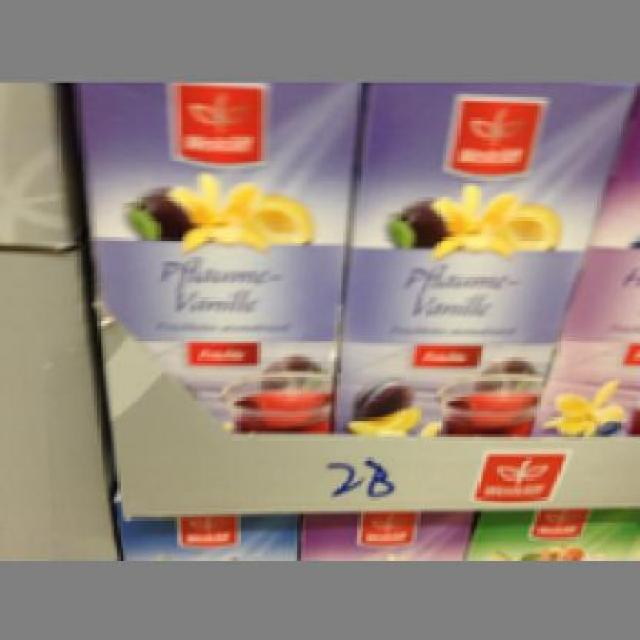Tea: (332, 82, 632, 432), (68, 82, 352, 432)
